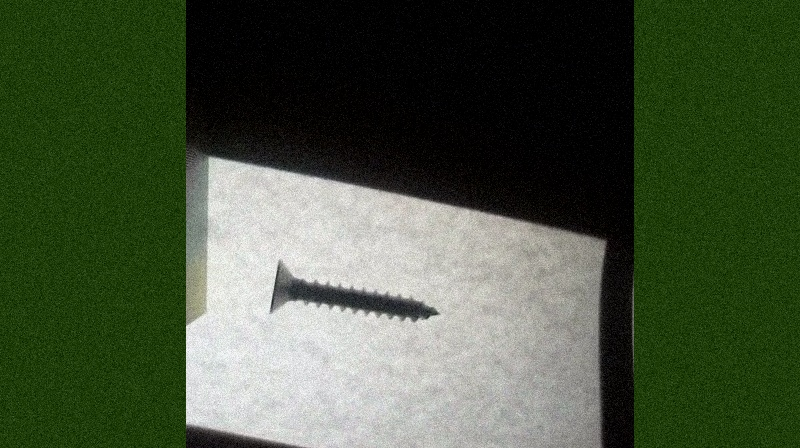S001: (266, 254, 440, 328)
